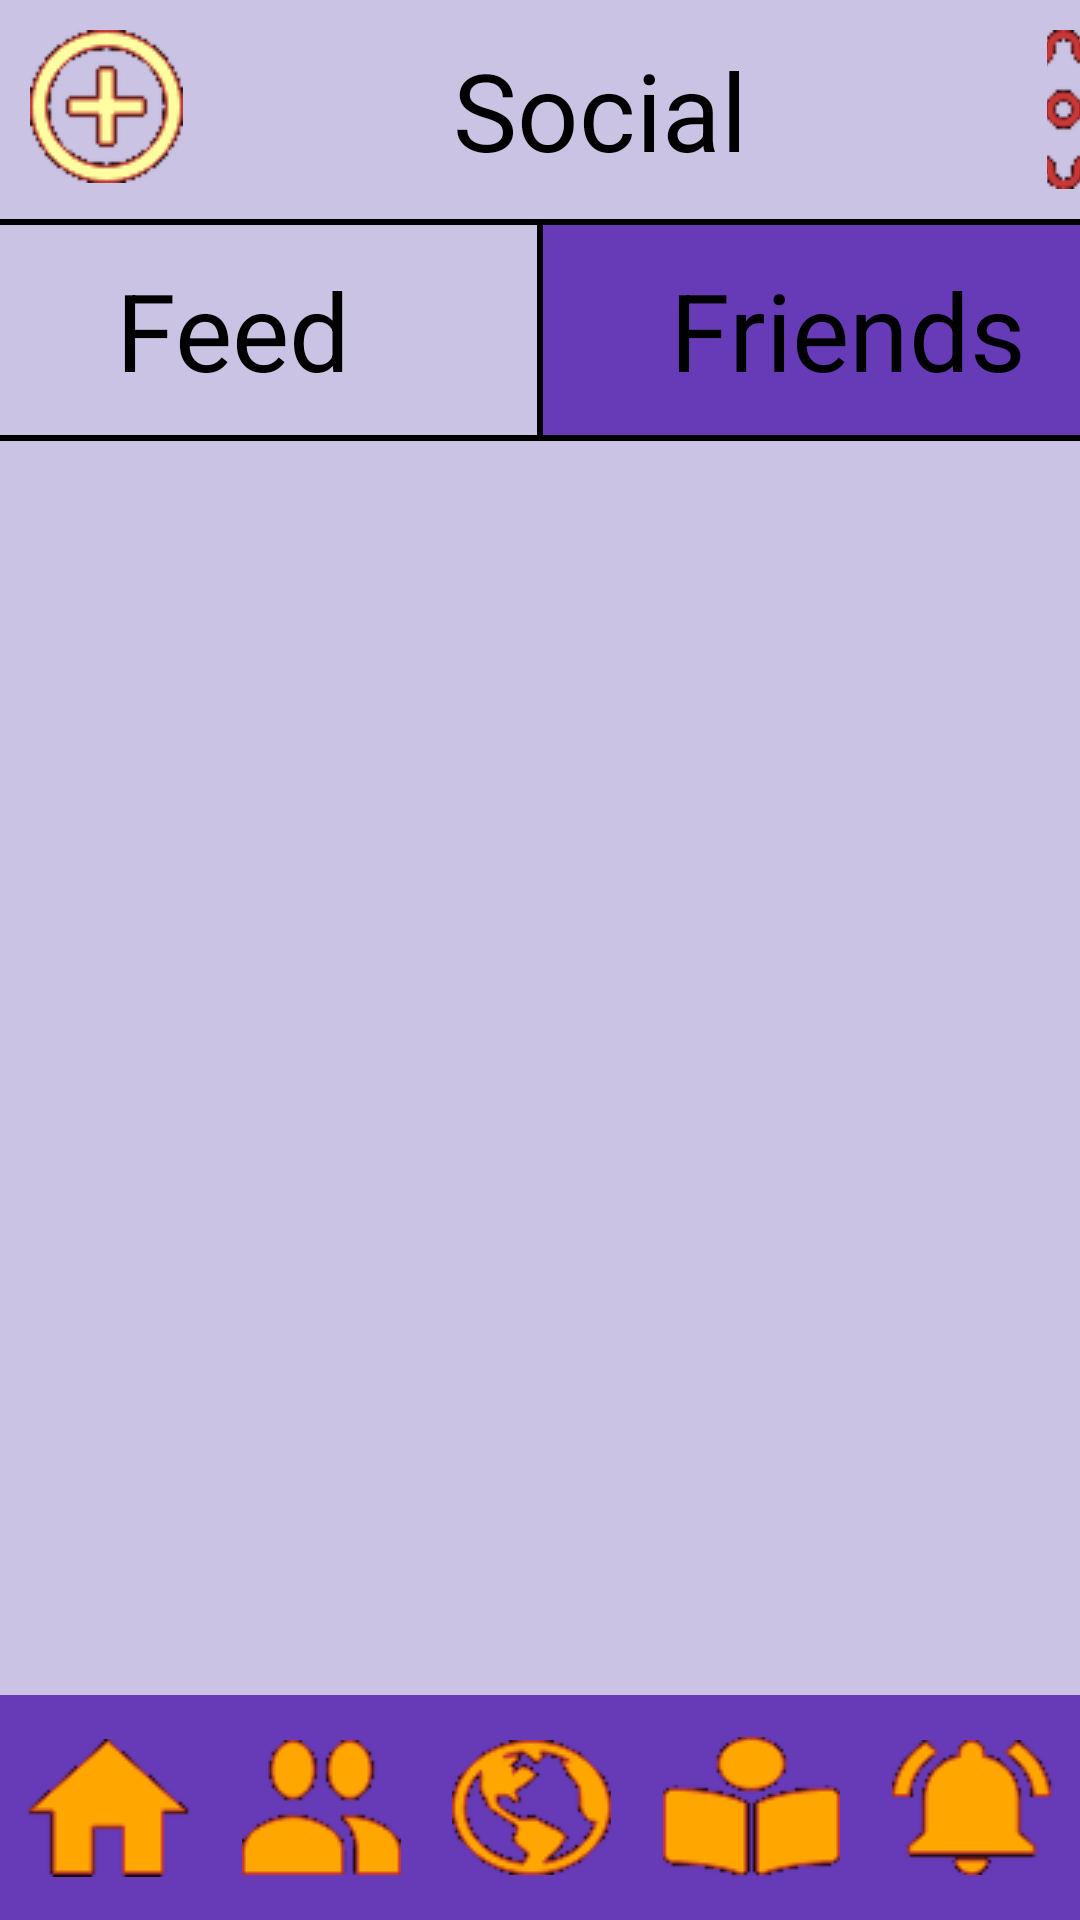

Locate icon controls on the screen. Image size 1080×1920, boxes as [left=x1, top=y1, right=x2, bottom=y2].
cookbookicon: [left=663, top=1737, right=840, bottom=1876]
exploreicon: [left=452, top=1740, right=611, bottom=1875]
homeorange: [left=28, top=1739, right=189, bottom=1877]
notification: [left=892, top=1740, right=1052, bottom=1875]
plus: [left=30, top=30, right=183, bottom=183]
socialicon: [left=242, top=1740, right=401, bottom=1875]
